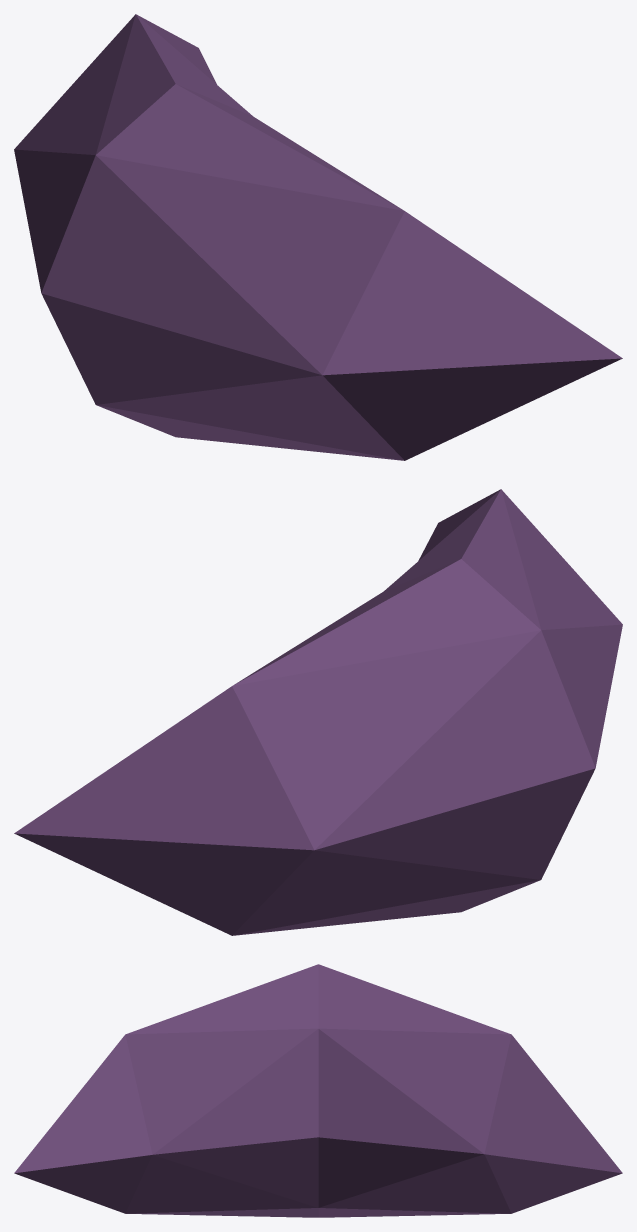
File: Toxoplasm.fbx
The picture shows the model from 3 angles, top to bottom: view 1: azimuth 30°, elevation 25°; view 2: azimuth 150°, elevation 25°; view 3: azimuth 270°, elevation 25°; orthographic projection. The views are drawn at different scales.
Parts seen in each view (by area): view 1: Toxoplasm; view 2: Toxoplasm; view 3: Toxoplasm.
Part boxes in pixels (x1,y1,x2,y2): Toxoplasm: (14, 14, 622, 460); Toxoplasm: (14, 489, 622, 935); Toxoplasm: (14, 964, 622, 1217).
Bounding box in the file's own units: 0.2047 × 0.187 × 0.407.
